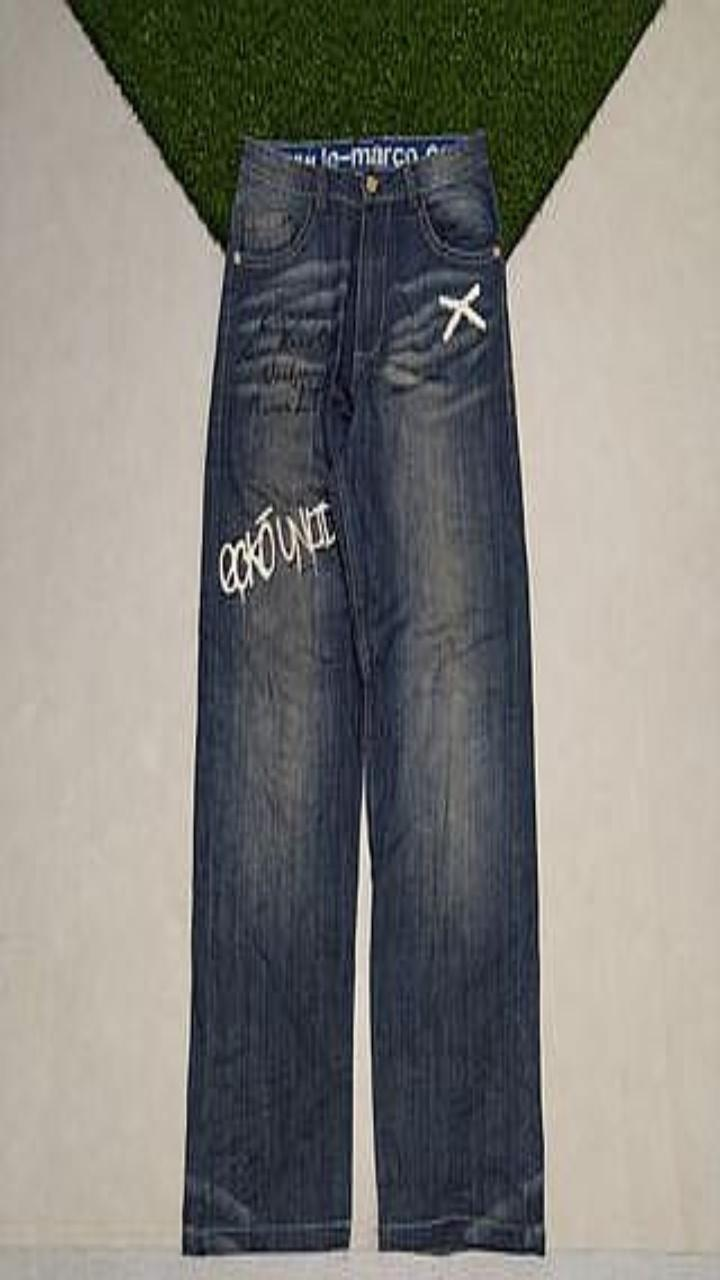Jeans: (182, 129, 544, 1253)
